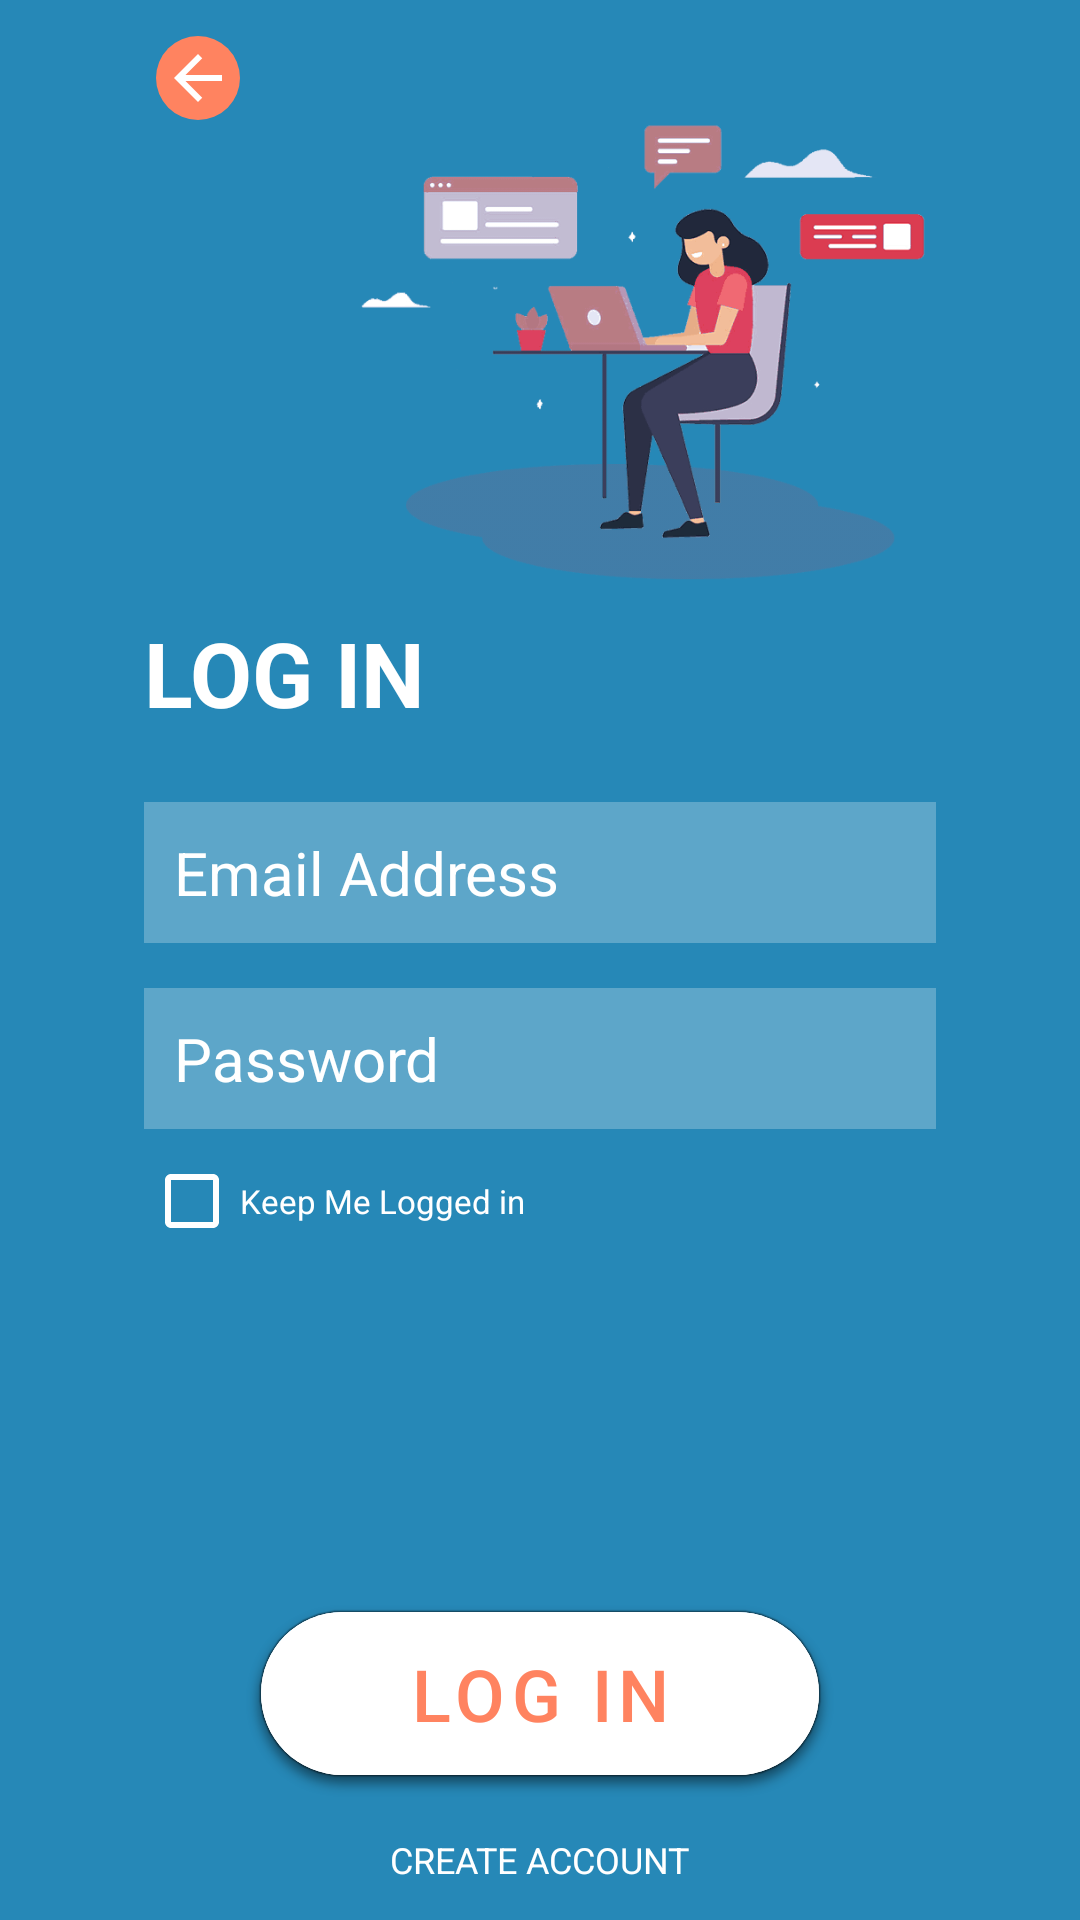

Named icons in this screenshot (1080px×1920px) and their centers, (x=x, y=y):
back: (x=198, y=78)
